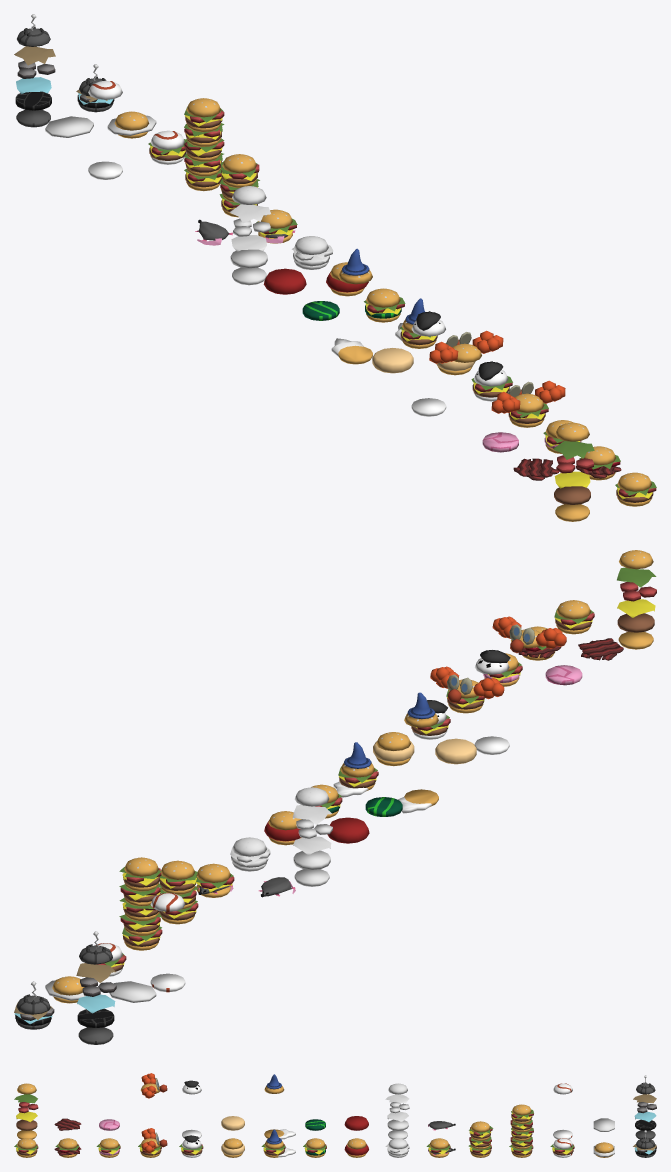
File: Burgers.fbx
3 renders of one model, top to bottom at view 1: azimuth 30°, elevation 25°; view 2: azimuth 150°, elevation 25°; view 3: azimuth 270°, elevation 25°, orthographic. The views are drawn at different scales.
Visible parts, largest first — view 1: SuperBiteBurger, ClownBurger, ClownBurgerBunTop, BigBiteBurger, MimeBurger, Burger, XenoBurger, GhostBurger, BaseballBurger, EmpoweredBurger, BaconBurger, RatBurger (+7 smaller); view 2: SuperBiteBurger, ClownBurger, BigBiteBurger, SpellBurger, ClownBurgerBunTop, RoboBurger, TofuBurger, GhostBurger, Burger, RatBurger, SlimeBurger, TofuBurgerTofuPatty (+8 smaller); view 3: SuperBiteBurger, BigBiteBurger, ClownBurger, SpellBurger, ClownBurgerBunTop, MimeBurger, RatBurger, BaconBurger, RoboBurger, TofuBurger, SlimeBurger, Burger (+32 smaller).
Part boxes in pixels (<box>): SuperBiteBurger: <box>184,98,224,191</box>; ClownBurger: <box>491,380,565,427</box>; ClownBurgerBunTop: <box>429,330,503,363</box>; BigBiteBurger: <box>219,154,259,217</box>; MimeBurger: <box>471,361,512,401</box>; Burger: <box>615,472,656,506</box>; XenoBurger: <box>364,288,405,322</box>; GhostBurger: <box>292,236,333,269</box>; BaseballBurger: <box>148,130,186,164</box>; EmpoweredBurger: <box>107,111,156,138</box>; BaconBurger: <box>576,446,621,480</box>; RatBurger: <box>256,209,297,243</box>; SuperBiteBurger: <box>119,857,162,950</box>; ClownBurger: <box>430,666,504,713</box>; BigBiteBurger: <box>159,860,198,924</box>; SpellBurger: <box>333,742,378,797</box>; ClownBurgerBunTop: <box>492,616,566,653</box>; RoboBurger: <box>14,981,54,1029</box>; TofuBurger: <box>373,732,414,766</box>; GhostBurger: <box>230,837,270,871</box>; Burger: <box>554,600,594,634</box>; RatBurger: <box>196,863,234,897</box>; SlimeBurger: <box>264,811,301,845</box>; TofuBurgerTofuPatty: <box>435,738,476,764</box>; SuperBiteBurger: <box>509,1104,533,1157</box>; BigBiteBurger: <box>468,1121,493,1157</box>; ClownBurger: <box>138,1128,167,1157</box>; SpellBurger: <box>261,1129,295,1157</box>; ClownBurgerBunTop: <box>140,1073,167,1098</box>; MimeBurger: <box>179,1135,203,1157</box>; RatBurger: <box>426,1138,455,1157</box>; BaconBurger: <box>54,1138,81,1157</box>; RoboBurger: <box>633,1130,656,1157</box>; TofuBurger: <box>221,1138,244,1157</box>; SlimeBurger: <box>344,1138,368,1157</box>; Burger: <box>14,1138,38,1157</box>.
Size of the model in its own units: 1.08 by 0.8337 by 7.79.
